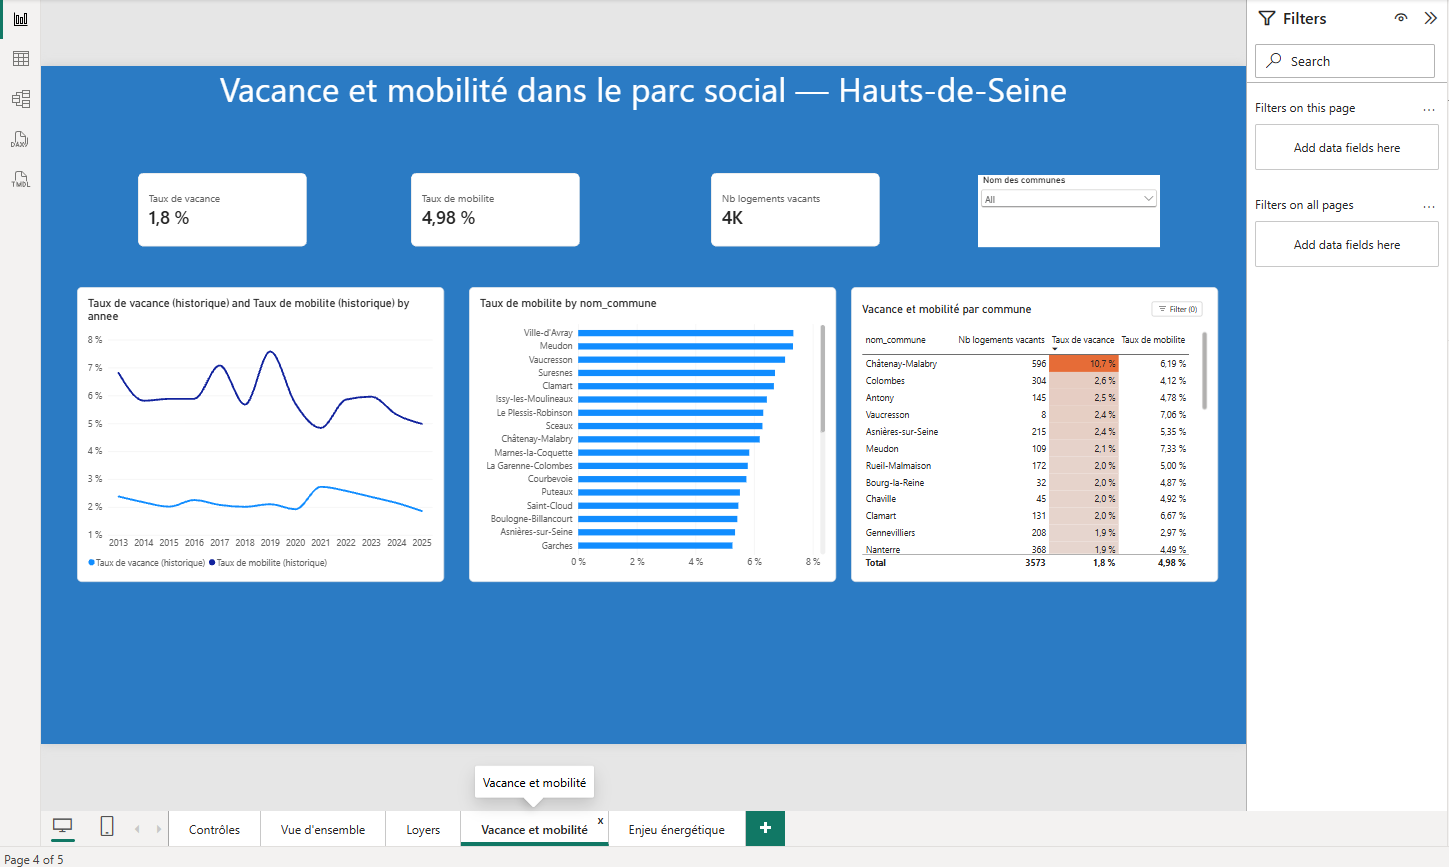

What the dashboard file says about the page in this screenshot:
{"tool":"powerbi","page":{"name":"Vacance et mobilité","canvas":[1920,1080],"ordinal":3},"visuals":[{"type":"textbox","box":[0,0,1920,116.3],"z":0},{"type":"slicer","fields":{"Values":["dim_commune.nom_commune"]},"box":[1493,173.7,290,114.7],"z":1000},{"type":"cardVisual","fields":{"Data":["_Mesures.Taux de vacance"]},"box":[154.6,170.5,269.3,117.9],"z":2000},{"type":"cardVisual","fields":{"Data":["_Mesures.Taux de mobilite"]},"box":[589.5,170.5,269.3,117.9],"z":3000},{"type":"cardVisual","fields":{"Data":["_Mesures.Nb logements vacants"]},"box":[1067.6,170.5,269.3,117.9],"z":4000},{"type":"lineChart","fields":{"Category":["dim_annee.annee"],"Y":["_Mesures.Taux de vacance (historique)","_Mesures.Taux de mobilite (historique)"]},"box":[57.4,352.1,584.8,470],"z":5000},{"type":"clusteredBarChart","fields":{"Category":["dim_commune.nom_commune"],"Y":["_Mesures.Taux de mobilite"]},"box":[682,352.1,584.8,470],"z":6000},{"type":"tableEx","fields":{"Values":["dim_commune.nom_commune","_Mesures.Nb logements vacants","_Mesures.Taux de vacance","_Mesures.Taux de mobilite"]},"box":[1290.6,352.1,584.8,470],"z":7000}]}

Visuals, with their boxes on the page's 1920x1080 design canvas (x1, y1, x2, y2). These are canvas units, not pixel positions in the 1449x867 screenshot, which may show the page scaled, cropped or inside an application window:
textbox: x1=0 y1=0 x2=1920 y2=116
slicer - dim_commune.nom_commune: x1=1493 y1=174 x2=1783 y2=288
cardVisual - _Mesures.Taux de vacance: x1=155 y1=170 x2=424 y2=288
cardVisual - _Mesures.Taux de mobilite: x1=590 y1=170 x2=859 y2=288
cardVisual - _Mesures.Nb logements vacants: x1=1068 y1=170 x2=1337 y2=288
lineChart - dim_annee.annee x _Mesures.Taux de vacance (historique): x1=57 y1=352 x2=642 y2=822
clusteredBarChart - dim_commune.nom_commune x _Mesures.Taux de mobilite: x1=682 y1=352 x2=1267 y2=822
tableEx - dim_commune.nom_commune x _Mesures.Nb logements vacants: x1=1291 y1=352 x2=1875 y2=822
